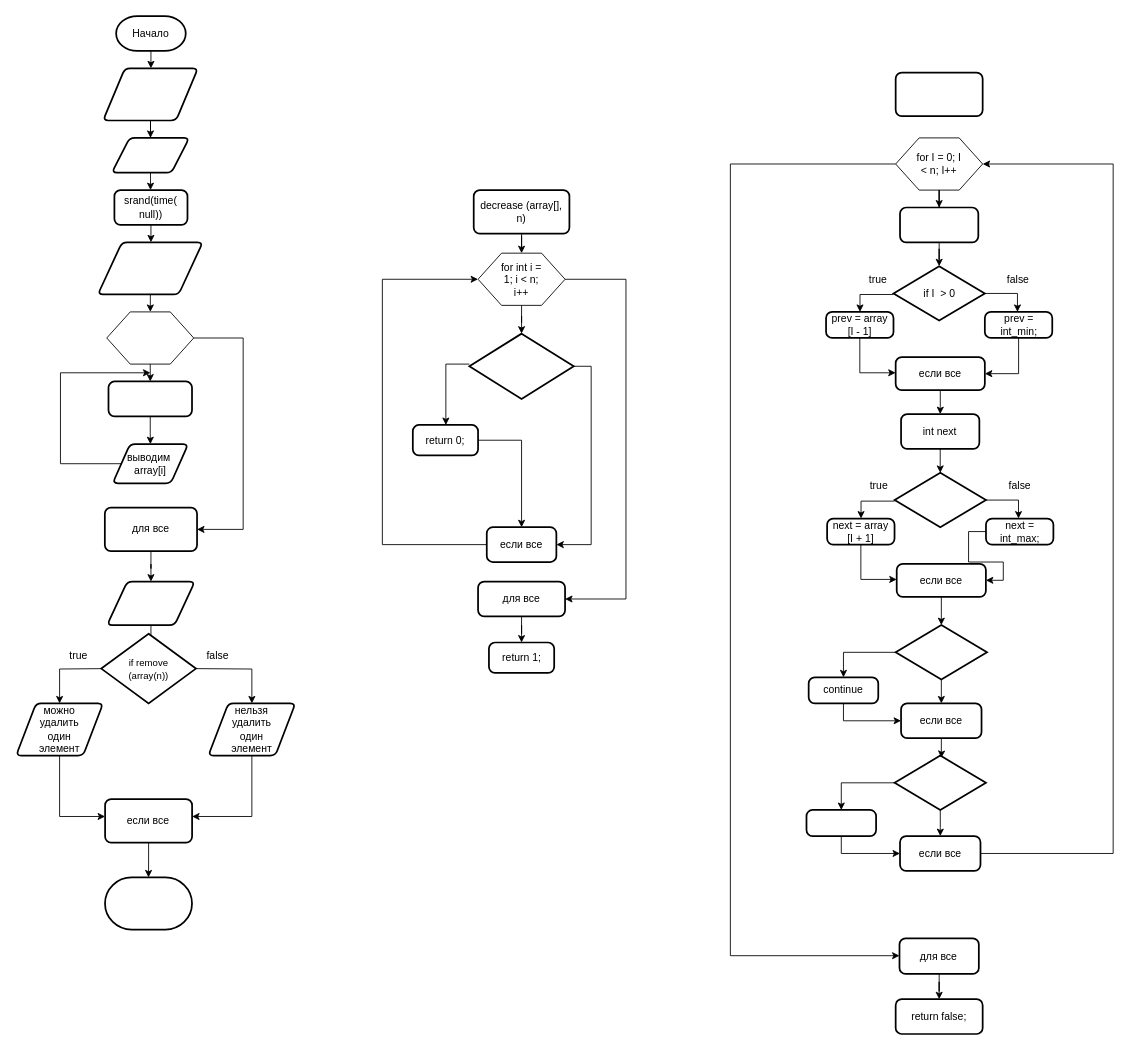
The diagram is 1135 pixels wide and 1049 high, and some of its shapes have lost their labels. The box of each missing label's shape, as (x1, y1, x2, y2) in pixels:
array[i] = rand() % 30 + 1: (107, 380, 192, 417)
decreaseOne( array[], n): (894, 71, 983, 117)
if array[I] >= array[I - 1]: (468, 332, 574, 399)
if I < n - 1: (893, 472, 986, 528)
if isDecrea sing(...): (893, 754, 986, 810)
if next < prev: (894, 624, 987, 680)
int i = 0; i < n; i++: (106, 311, 194, 364)
int prev: (899, 206, 979, 243)
return true: (805, 809, 877, 837)
Вывести "Введите размер массива: ": (102, 67, 198, 121)
Вывести "Сгенерирова нный массив: ": (97, 241, 203, 295)
вывод новой строки \n: (106, 580, 195, 626)
конец программы: (104, 876, 192, 930)
Получить n: (110, 137, 190, 173)
